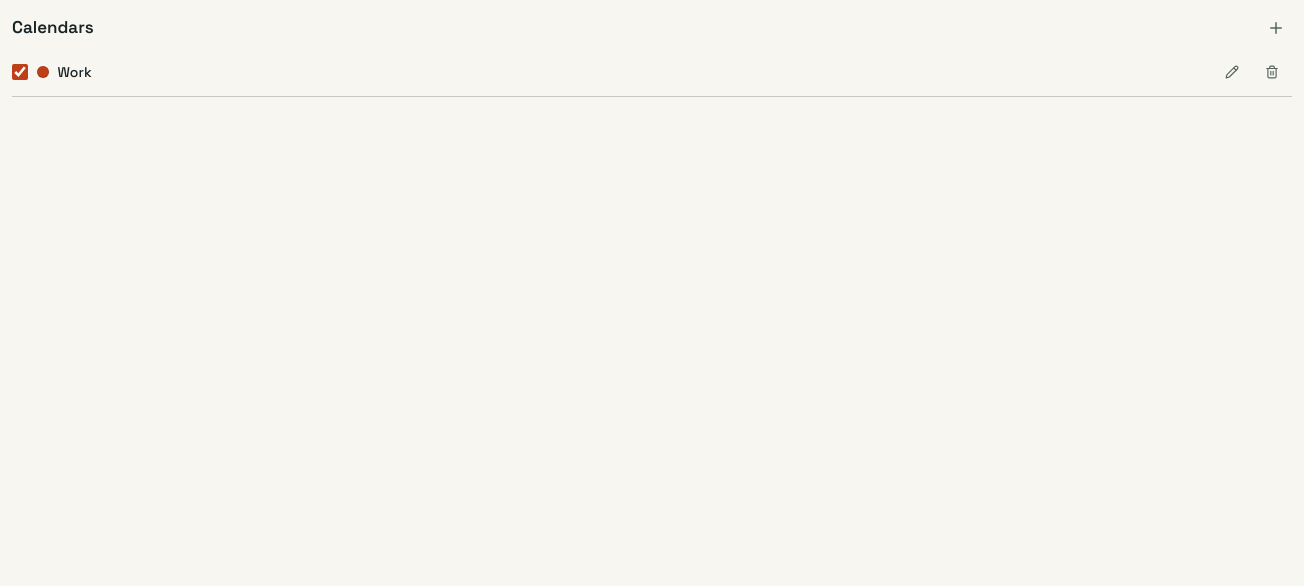
Test: CalendarSidebar › closes an open link form with the edit panel
The width and height of the screenshot is (1304, 586).
What coordinates should you click on to do the following:
click the button named "Edit Work"
I would click on:
 (1232, 72)
Its box is [1212, 52, 1252, 92].
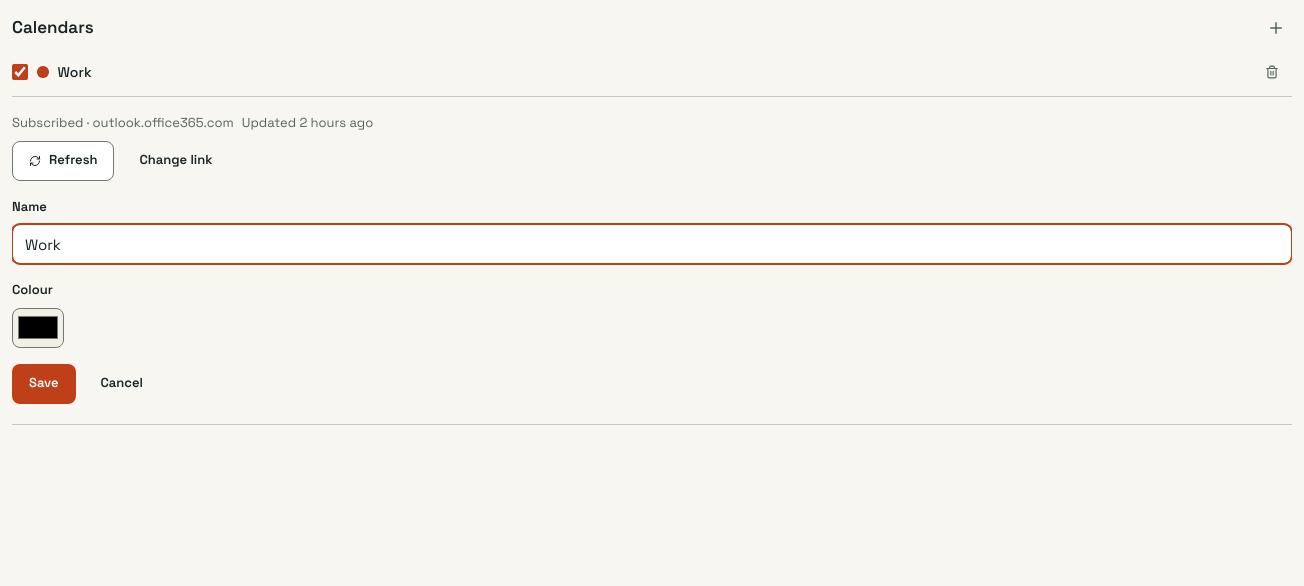
What coordinates should you click on to do the following:
click the button with aria-label "Change link of Work"
I would click on:
 (176, 160)
Its box is [122, 140, 230, 180].
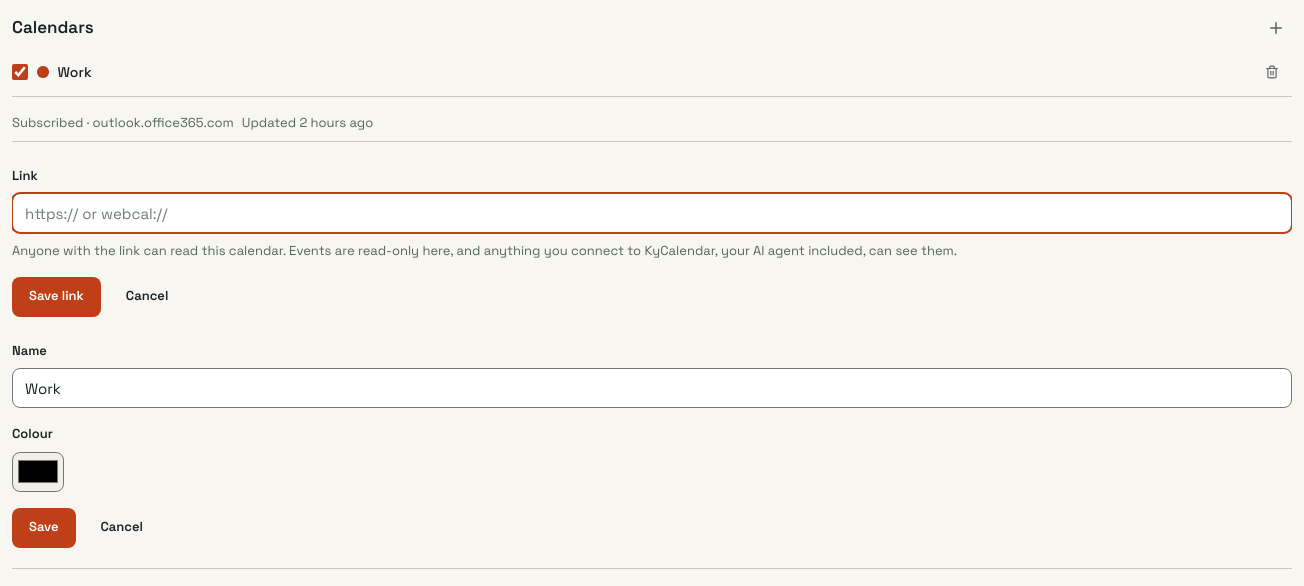
Now the field labelled "Link" is shown, box [12, 193, 1292, 233]
What coordinates should you click on to do the following:
click the button "Cancel" below "Colour"
I would click on:
 (122, 528)
Its box is [84, 508, 160, 548].
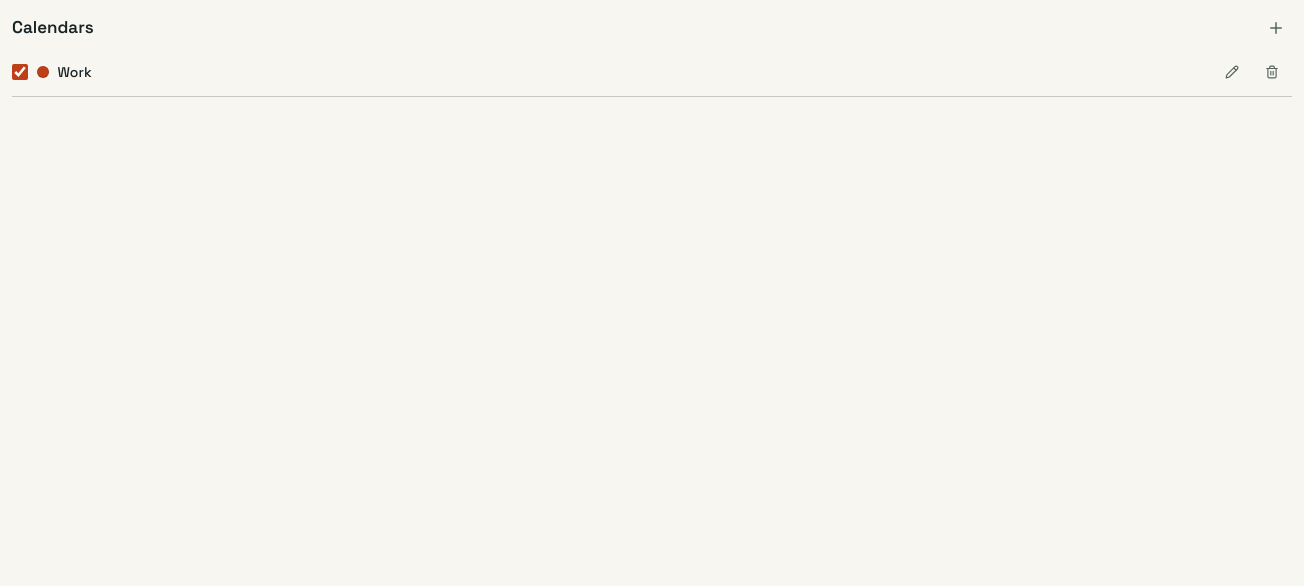
Now the label labelled "Link" is gone
Now the text "Subscribed · outlook.office365.com" is gone
What coordinates should you click on to do the following:
click the button named "Edit Work"
I would click on:
 (1232, 72)
Its box is [1212, 52, 1252, 92].
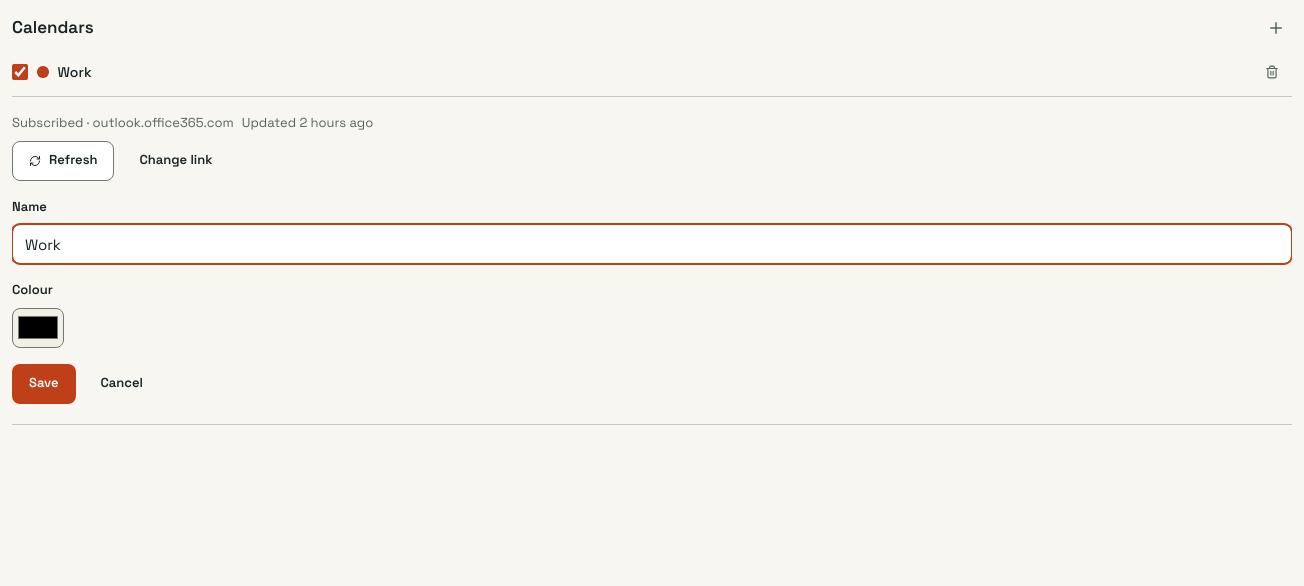
Now the button with aria-label "Change link of Work" is shown, box [122, 140, 230, 180]
